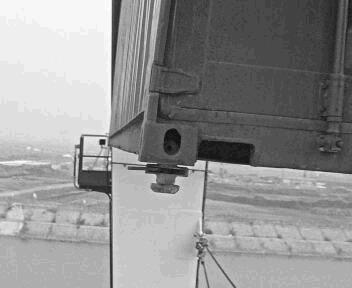twist_lock_1: (138, 161, 194, 201)
